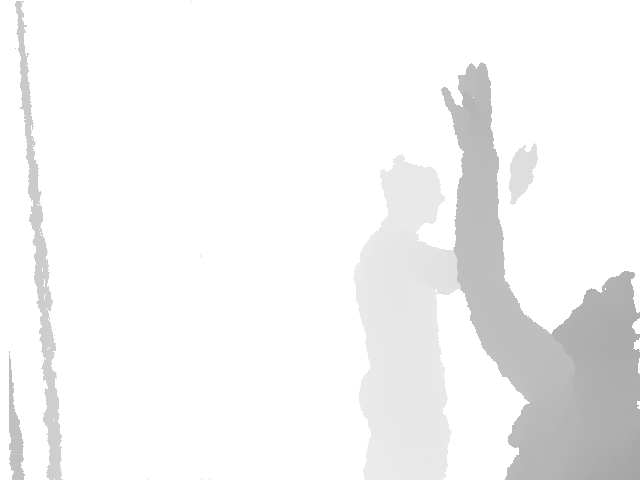hand: (440, 62, 496, 145), (508, 142, 540, 200)
head: (550, 269, 640, 391), (377, 154, 445, 226)
person: (440, 62, 640, 480), (351, 142, 541, 480)
